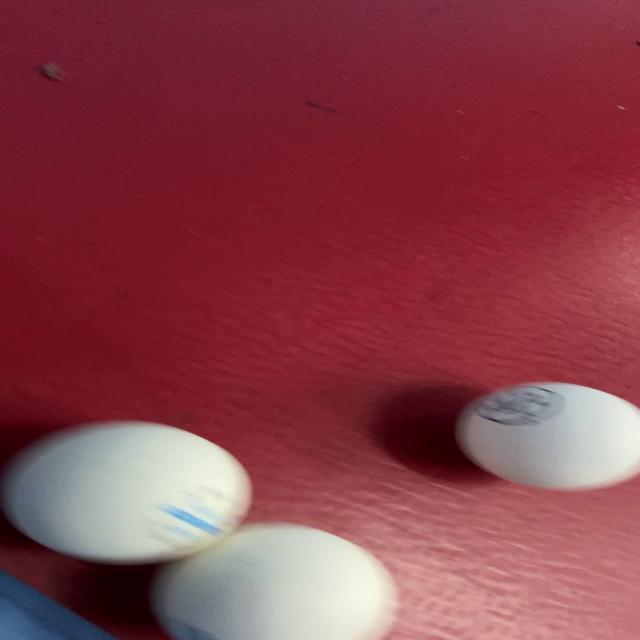ping-pong-ball: (451, 381, 640, 492)
